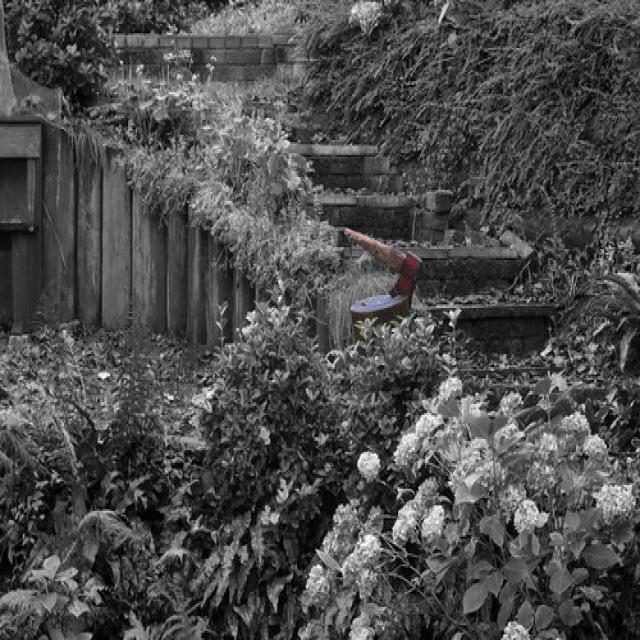Axe: (345, 229, 422, 301)
